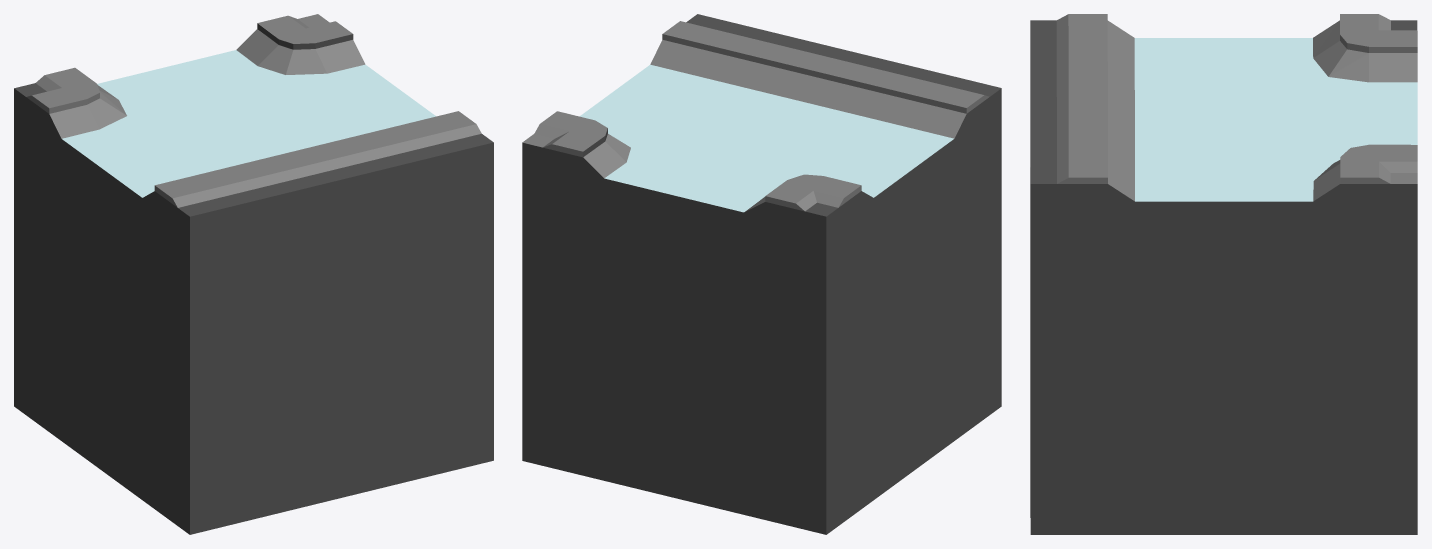
Rendered from blockRiverCitySplit.fbx.
3 views of the same model, side by side, from view 1: azimuth 30°, elevation 25°; view 2: azimuth 150°, elevation 25°; view 3: azimuth 270°, elevation 25° (orthographic). The views are drawn at different scales.
Visible parts, largest first — view 1: blockRiverCitySplit; view 2: blockRiverCitySplit; view 3: blockRiverCitySplit.
Boxes of the visible parts, left/top/right/bottom form: blockRiverCitySplit: left=14, top=14, right=493, bottom=534; blockRiverCitySplit: left=522, top=14, right=1001, bottom=534; blockRiverCitySplit: left=1030, top=14, right=1417, bottom=534.
Size of the model in its own units: 100 by 102 by 100.
